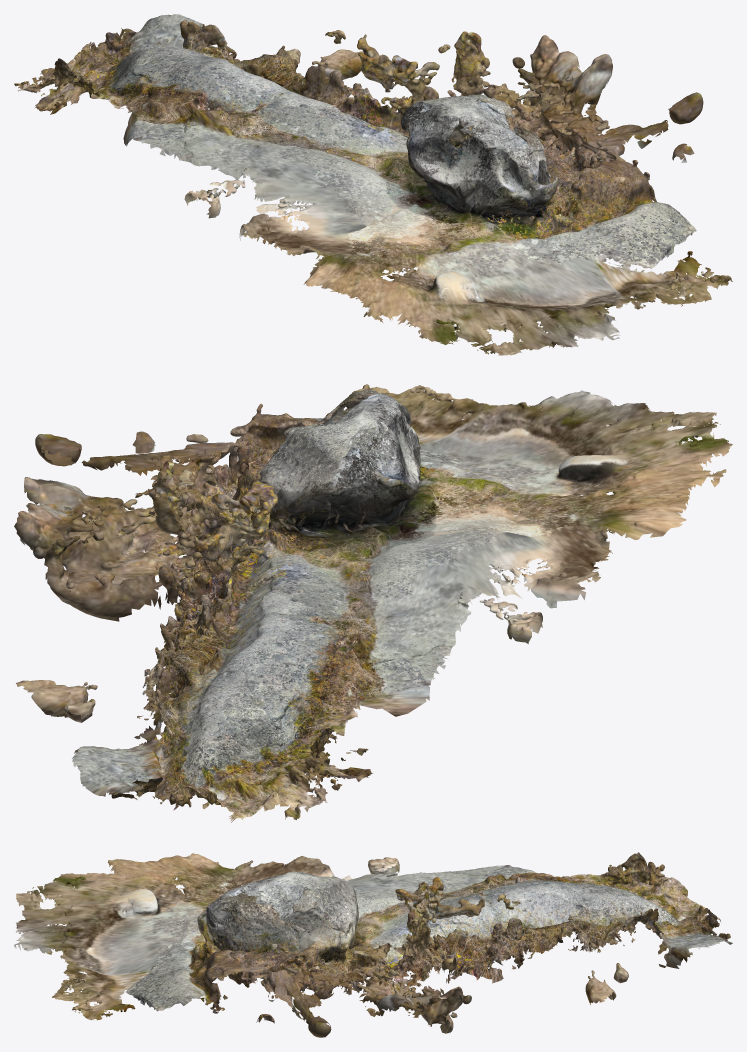
File: snakeRock.glb
3 views of the same model, one above another, from view 1: azimuth 30°, elevation 25°; view 2: azimuth 150°, elevation 25°; view 3: azimuth 270°, elevation 25° (orthographic). The views are drawn at different scales.
Visible parts, largest first — view 1: Snake_Rock; view 2: Snake_Rock; view 3: Snake_Rock.
Boxes of the visible parts, x1,y1,x2,y2 form: Snake_Rock: (14,14,732,355); Snake_Rock: (14,384,732,822); Snake_Rock: (14,852,732,1037).
Size of the model in its own units: 7.67 by 2.05 by 12.53.
Materials: 2 (2 with a texture image).
